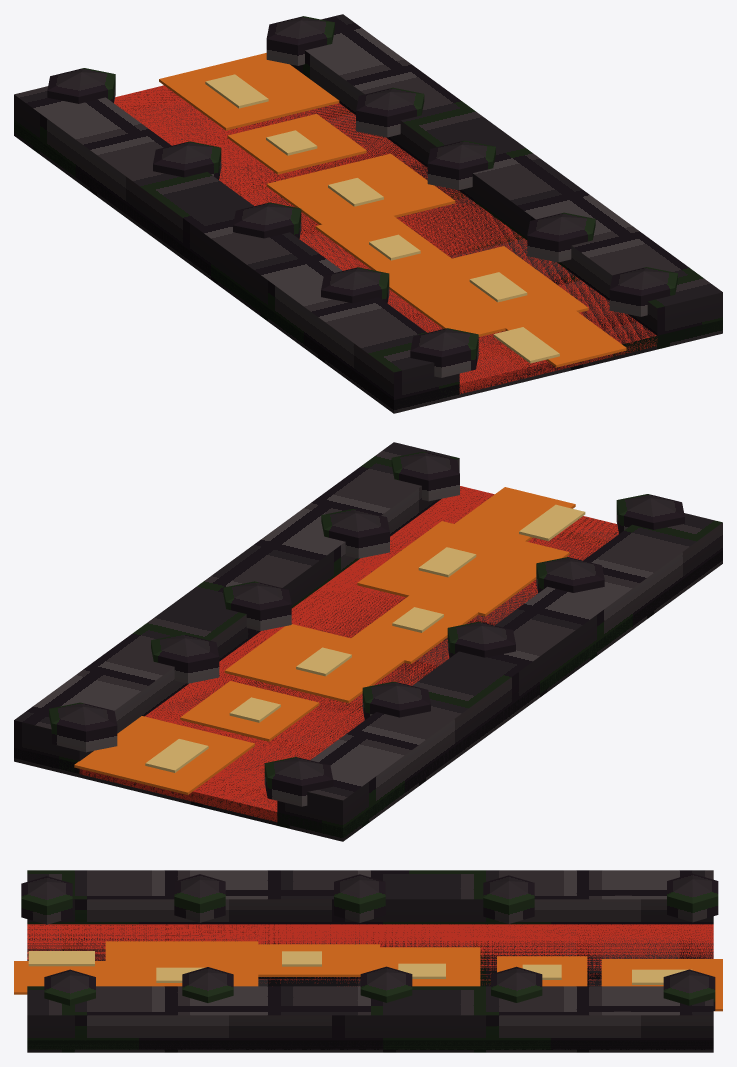
The model's file is lava_channel.glb.
3 renders of one model, top to bottom at view 1: azimuth 30°, elevation 25°; view 2: azimuth 150°, elevation 25°; view 3: azimuth 270°, elevation 25°, orthographic. The views are drawn at different scales.
Visible parts, largest first — view 1: lava_channel; view 2: lava_channel; view 3: lava_channel.
Part boxes in pixels (<box>): lava_channel: <box>14,14,722,413</box>; lava_channel: <box>14,442,722,841</box>; lava_channel: <box>14,870,722,1052</box>.
Size of the model in its own units: 2 by 0.34 by 4.13.
2 materials, 1 textured.
